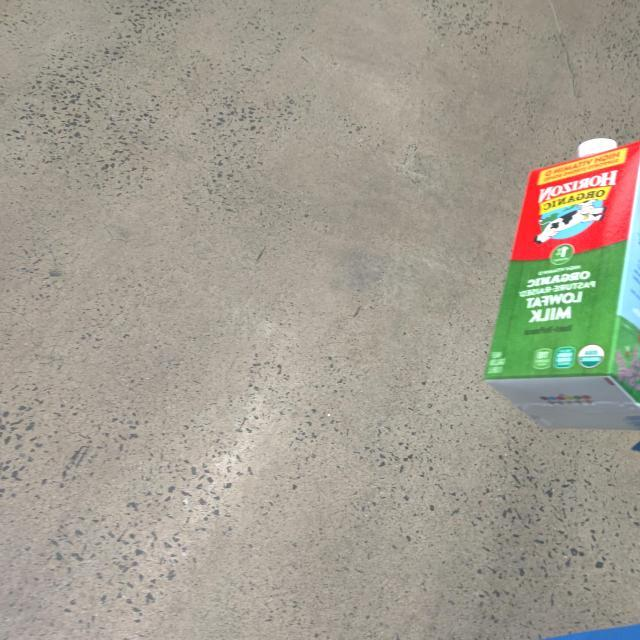milk: (478, 136, 640, 433)
